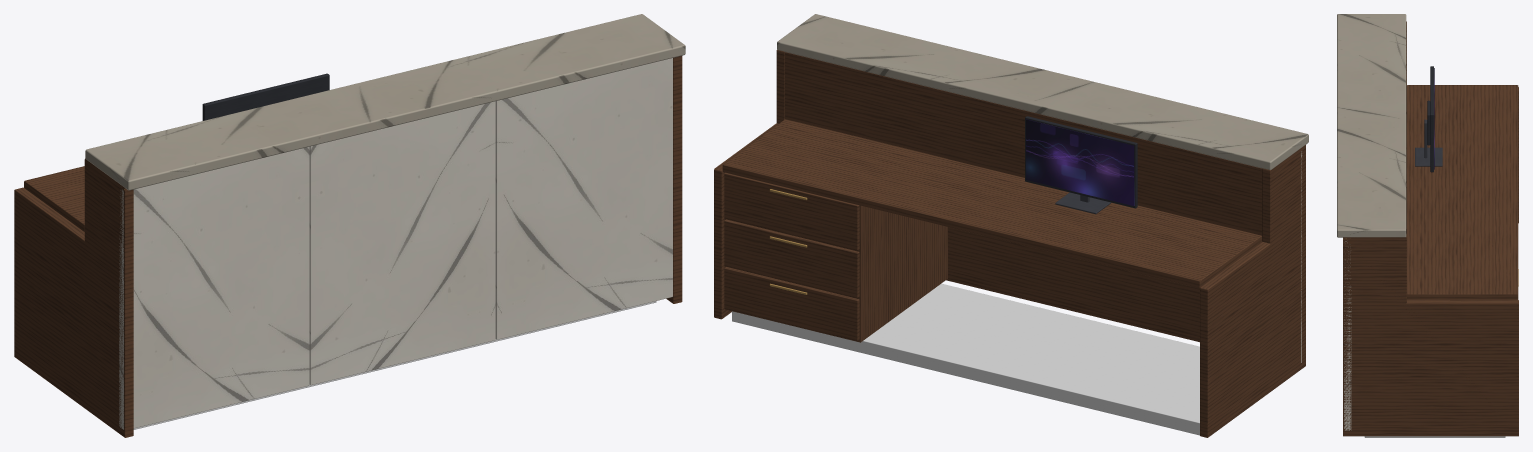
File: reception_desk.glb
3 views of the same model, side by side, from view 1: azimuth 30°, elevation 25°; view 2: azimuth 150°, elevation 25°; view 3: azimuth 270°, elevation 25° (orthographic). The views are drawn at different scales.
Parts seen in each view (by area): view 1: front_stone_marble_1, front_stone_marble_0, front_stone_marble_2, top_stone_marble_honed_0, carcass_wood_walnut_3, carcass_wood_walnut_4, monitor_graphite_0, worktop_wood_walnut_0, carcass_rubber_0; view 2: worktop_wood_walnut_0, carcass_rubber_0, carcass_wood_walnut_5, top_stone_marble_honed_0, carcass_wood_walnut_3, carcass_wood_walnut_1, carcass_wood_walnut_6, monitor_glass_screen_0, carcass_wood_walnut_9, carcass_wood_walnut_11, carcass_wood_walnut_7, carcass_wood_walnut_4 (+2 smaller); view 3: carcass_wood_walnut_4, worktop_wood_walnut_0, top_stone_marble_honed_0, front_stone_marble_2, monitor_alloy_dark_3, monitor_graphite_0, carcass_rubber_0, carcass_wood_walnut_3.
Boxes of the visible parts, x1=… form: front_stone_marble_1: x1=309, y1=101, x2=495, y2=385; front_stone_marble_0: x1=119, y1=146, x2=309, y2=429; front_stone_marble_2: x1=495, y1=58, x2=672, y2=339; top_stone_marble_honed_0: x1=85, y1=14, x2=685, y2=190; carcass_wood_walnut_3: x1=14, y1=158, x2=133, y2=437; carcass_wood_walnut_4: x1=666, y1=56, x2=682, y2=303; monitor_graphite_0: x1=202, y1=73, x2=329, y2=120; worktop_wood_walnut_0: x1=24, y1=166, x2=84, y2=231; carcass_rubber_0: x1=133, y1=301, x2=656, y2=429; worktop_wood_walnut_0: x1=722, y1=119, x2=1262, y2=288; carcass_rubber_0: x1=732, y1=283, x2=1199, y2=435; carcass_wood_walnut_5: x1=784, y1=52, x2=1262, y2=235; top_stone_marble_honed_0: x1=777, y1=14, x2=1308, y2=169; carcass_wood_walnut_3: x1=1200, y1=145, x2=1305, y2=437; carcass_wood_walnut_1: x1=946, y1=159, x2=1262, y2=342; carcass_wood_walnut_6: x1=724, y1=121, x2=947, y2=342; monitor_glass_screen_0: x1=1026, y1=119, x2=1134, y2=205; carcass_wood_walnut_9: x1=724, y1=219, x2=859, y2=297; carcass_wood_walnut_11: x1=724, y1=172, x2=859, y2=250; carcass_wood_walnut_7: x1=724, y1=267, x2=859, y2=341; carcass_wood_walnut_4: x1=714, y1=50, x2=791, y2=319; carcass_wood_walnut_4: x1=1343, y1=234, x2=1518, y2=436; worktop_wood_walnut_0: x1=1406, y1=85, x2=1518, y2=299; top_stone_marble_honed_0: x1=1337, y1=14, x2=1406, y2=237; front_stone_marble_2: x1=1344, y1=241, x2=1351, y2=430; monitor_alloy_dark_3: x1=1415, y1=147, x2=1442, y2=166; monitor_graphite_0: x1=1430, y1=66, x2=1433, y2=172; carcass_rubber_0: x1=1364, y1=436, x2=1505, y2=437; carcass_wood_walnut_3: x1=1406, y1=21, x2=1518, y2=223.
Size of what is drawn, in the model's own units: 2.4 by 1.1 by 0.8527.
13 materials, 11 textured.
